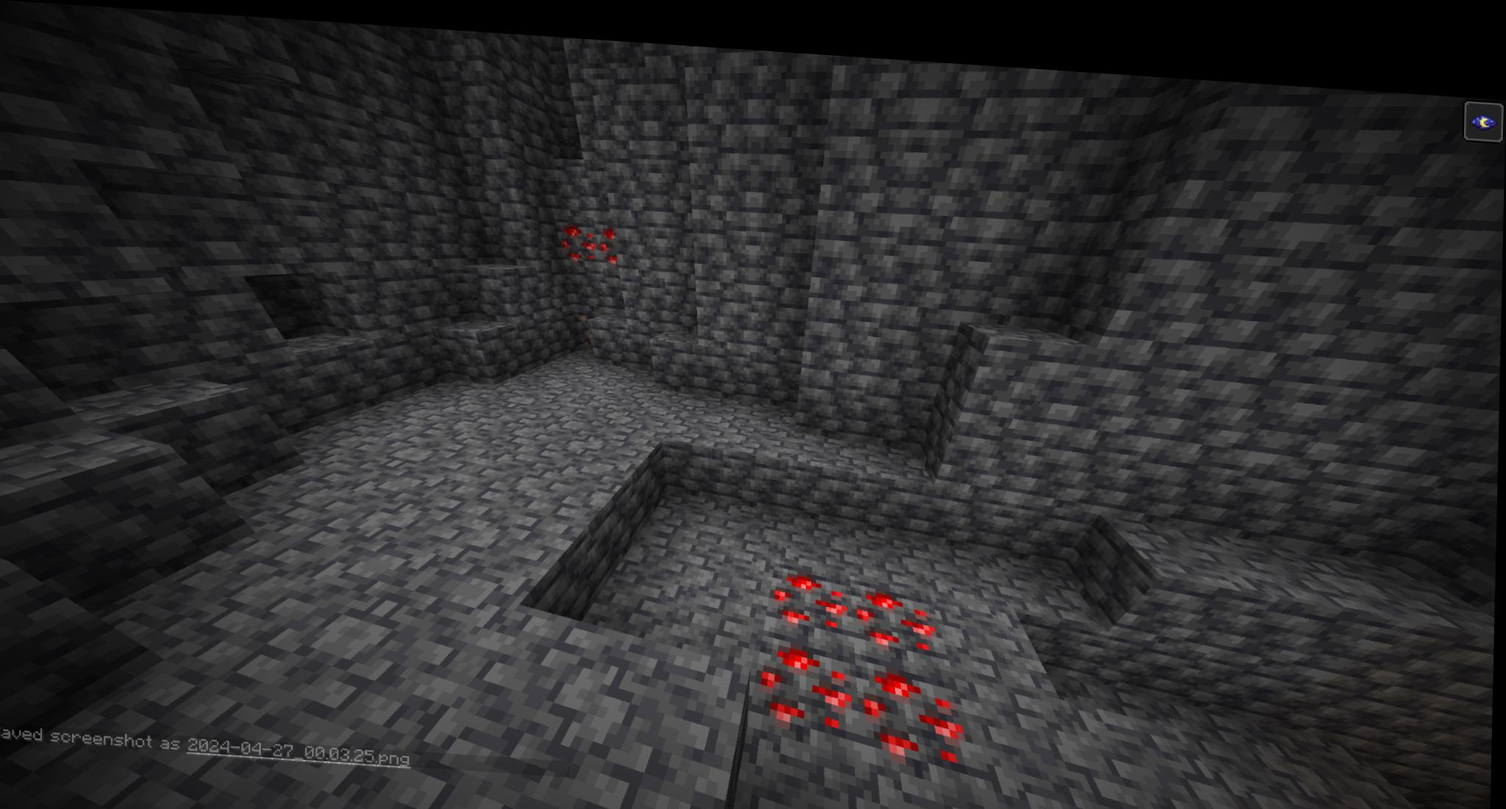redstone ore: (854, 655, 967, 765), (761, 633, 858, 734), (849, 566, 940, 656), (777, 555, 855, 636), (563, 210, 630, 255)
